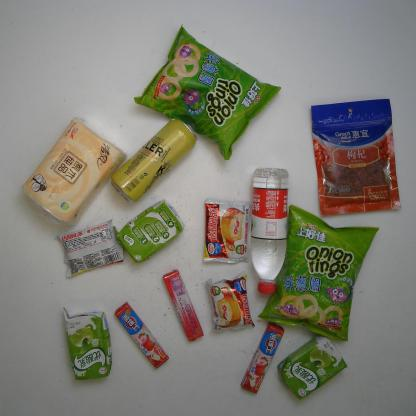Alcohol: (109, 118, 199, 203)
Candy: (114, 301, 170, 370), (239, 320, 285, 395), (162, 268, 204, 344)
Dessert: (54, 217, 125, 278), (202, 195, 254, 265), (205, 270, 256, 334)
Dried Fruit: (309, 98, 402, 217)
Drink: (248, 166, 290, 296)
Milk: (276, 332, 350, 402), (111, 198, 186, 266), (61, 306, 115, 382)
Puffed Food: (130, 22, 284, 164), (256, 203, 380, 344)
Tissue: (21, 115, 128, 229)
